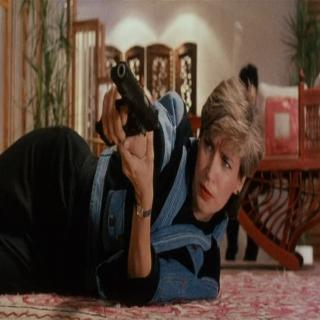gun: (88, 39, 169, 164)
